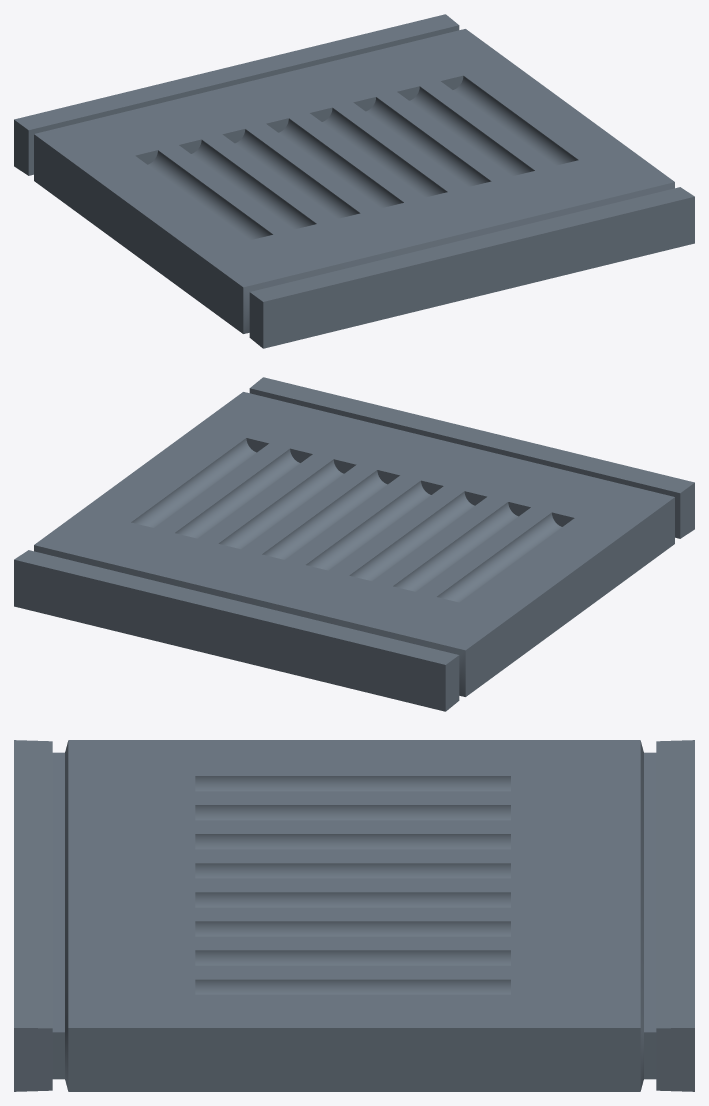
Rendered from MetallicPlatforms.fbx.
3 views of the same model, one above another, from view 1: azimuth 30°, elevation 25°; view 2: azimuth 150°, elevation 25°; view 3: azimuth 270°, elevation 25° (orthographic). The views are drawn at different scales.
Parts seen in each view (by area): view 1: Plane.002; view 2: Plane.002; view 3: Plane.002.
Boxes of the visible parts, x1,y1,x2,y2 form: Plane.002: (14,14,694,348); Plane.002: (14,377,694,711); Plane.002: (14,740,694,1091).
Size of the model in its own units: 200 by 20.74 by 200.
